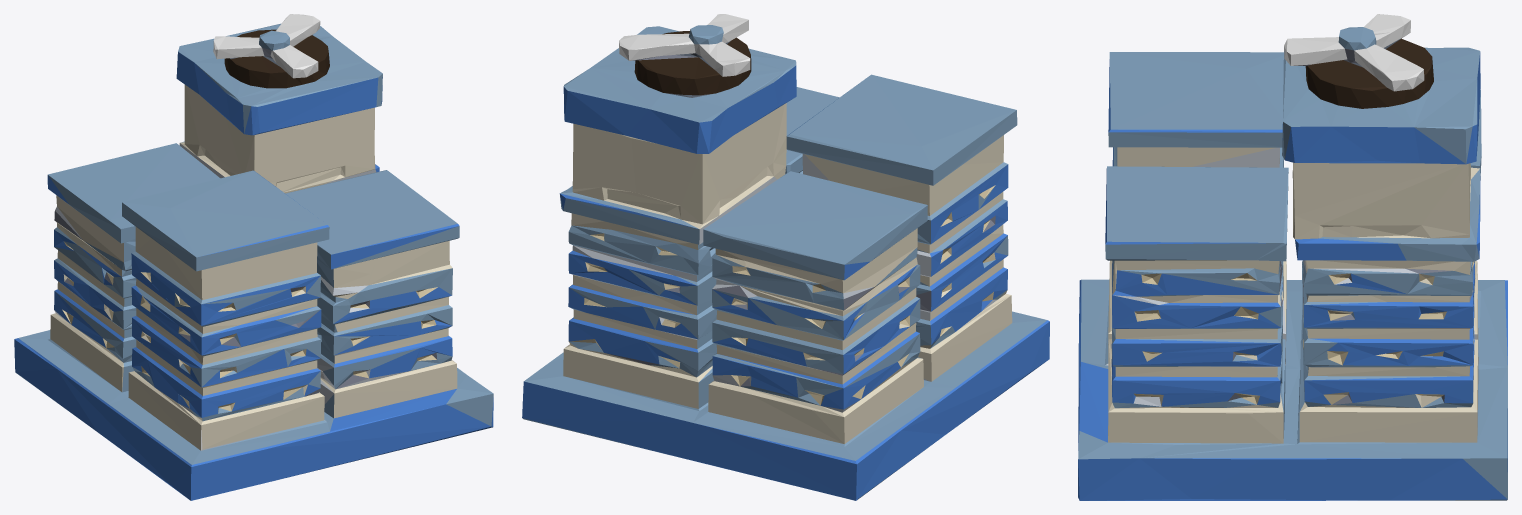
The model's file is cluster-hunyuan-B.glb.
The picture shows the model from 3 angles, left to right: view 1: azimuth 30°, elevation 25°; view 2: azimuth 150°, elevation 25°; view 3: azimuth 270°, elevation 25°; orthographic projection. The views are drawn at different scales.
Visible parts, largest first — view 1: cluster; view 2: cluster; view 3: cluster.
Boxes of the visible parts, x1,y1,x2,y2 form: cluster: (14, 14, 493, 500); cluster: (522, 14, 1049, 500); cluster: (1078, 14, 1507, 500).
Bounding box in the file's own units: 1.81 × 1.9 × 1.83.
